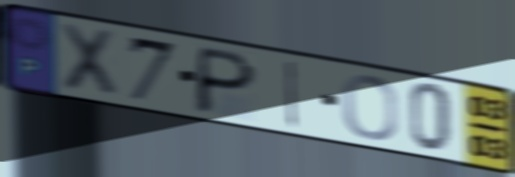0: (407, 81, 459, 156)
7: (122, 33, 181, 104)
I: (285, 57, 300, 130)
O: (340, 72, 401, 142)
P: (191, 44, 260, 118)
X: (58, 19, 121, 102)
